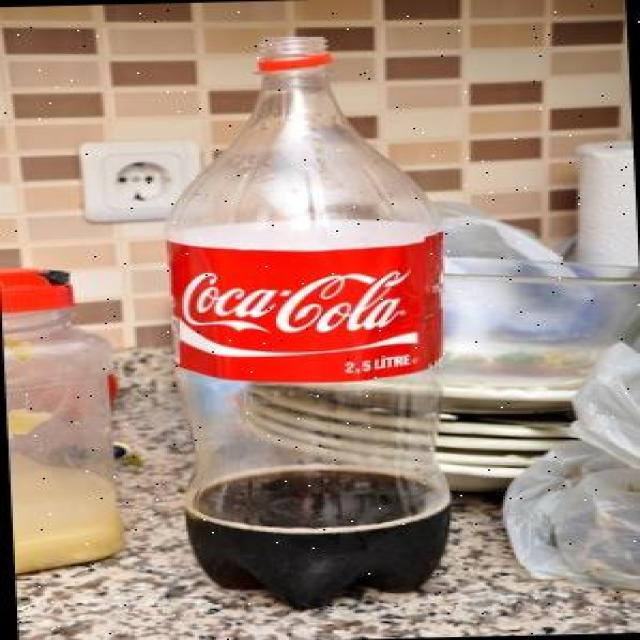coca-cola: (137, 24, 467, 616)
